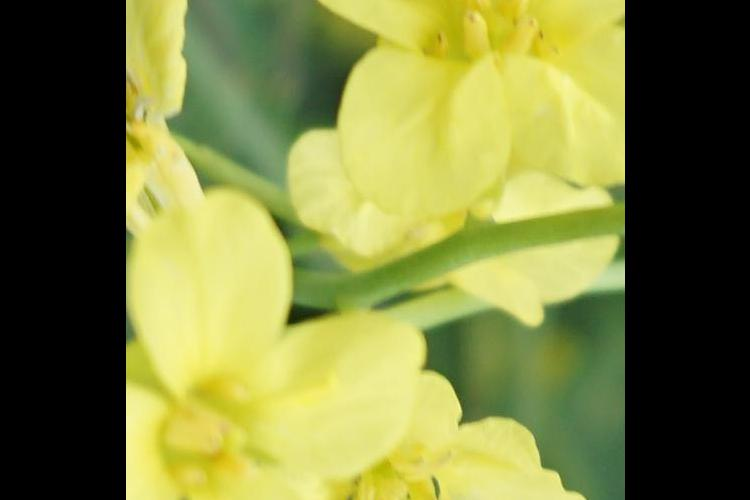yellow: (289, 1, 605, 282), (138, 200, 380, 500), (343, 372, 563, 500), (130, 1, 215, 219)
